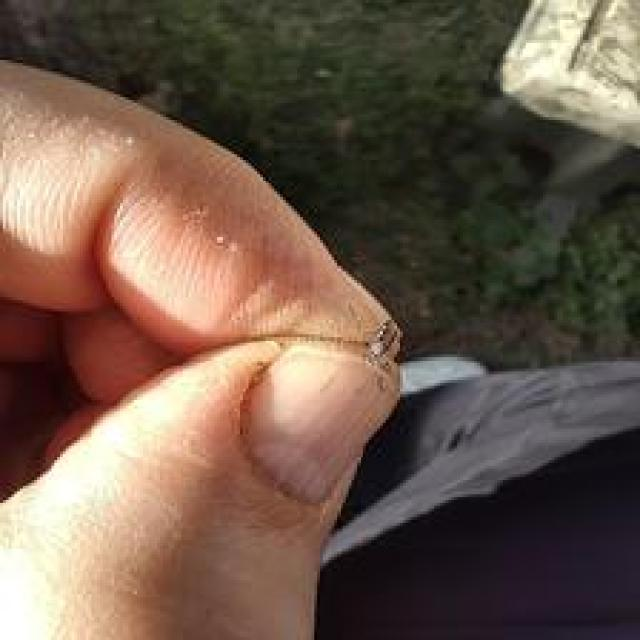Aedes albopictus: (494, 0, 640, 157)
